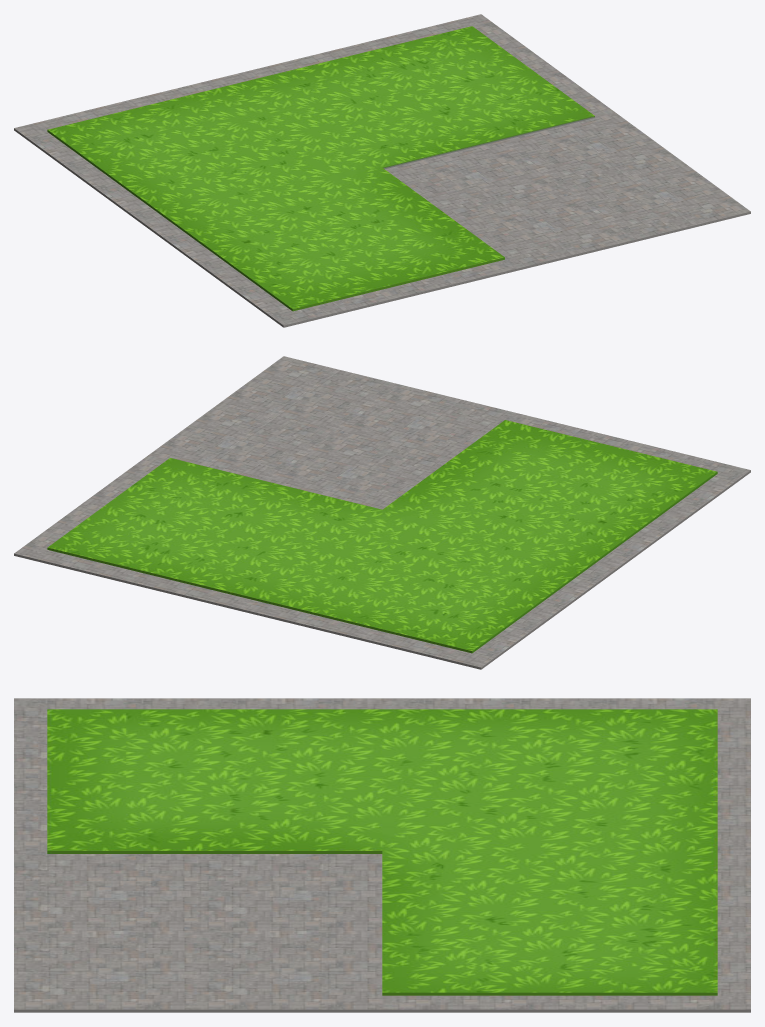
3 views of the same model, one above another, from view 1: azimuth 30°, elevation 25°; view 2: azimuth 150°, elevation 25°; view 3: azimuth 270°, elevation 25° (orthographic). The views are drawn at different scales.
Visible parts, largest first — view 1: 3x; view 2: 3x; view 3: 3x.
Part boxes in pixels (x1,y1,x2,y2): 3x: [14, 14, 750, 327]; 3x: [14, 356, 750, 669]; 3x: [14, 698, 750, 1012].
Bounding box in the file's own units: 22 × 0.2 × 22.
1 material, 1 textured.
